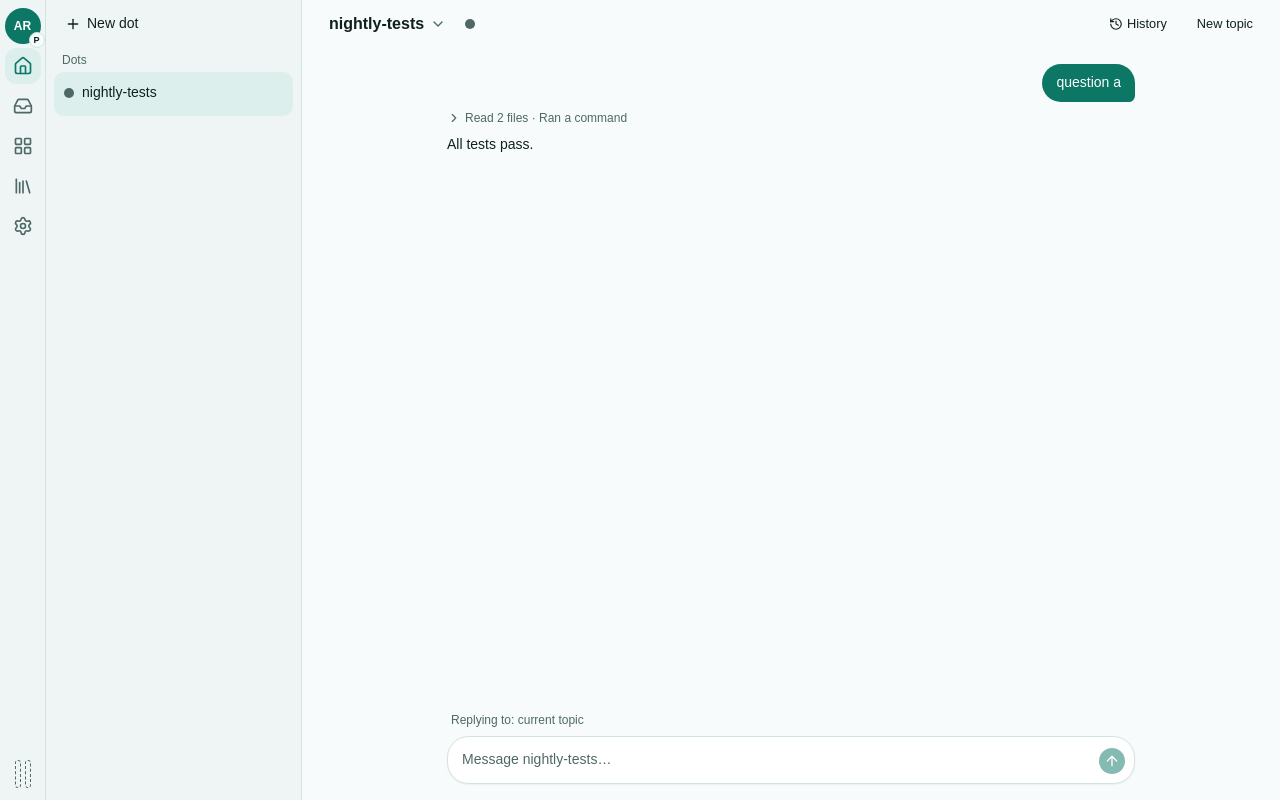
the conversation as a document (deep-teal spec section 4) › shows a group of tool steps as one line that opens to their chips
Expected: the text "Read 2 files · Ran a command" is shown, [465,110,627,126]
Click the heading "Read 2 files · Ran a command" at {"x": 537, "y": 118}, box [447,111,627,125]
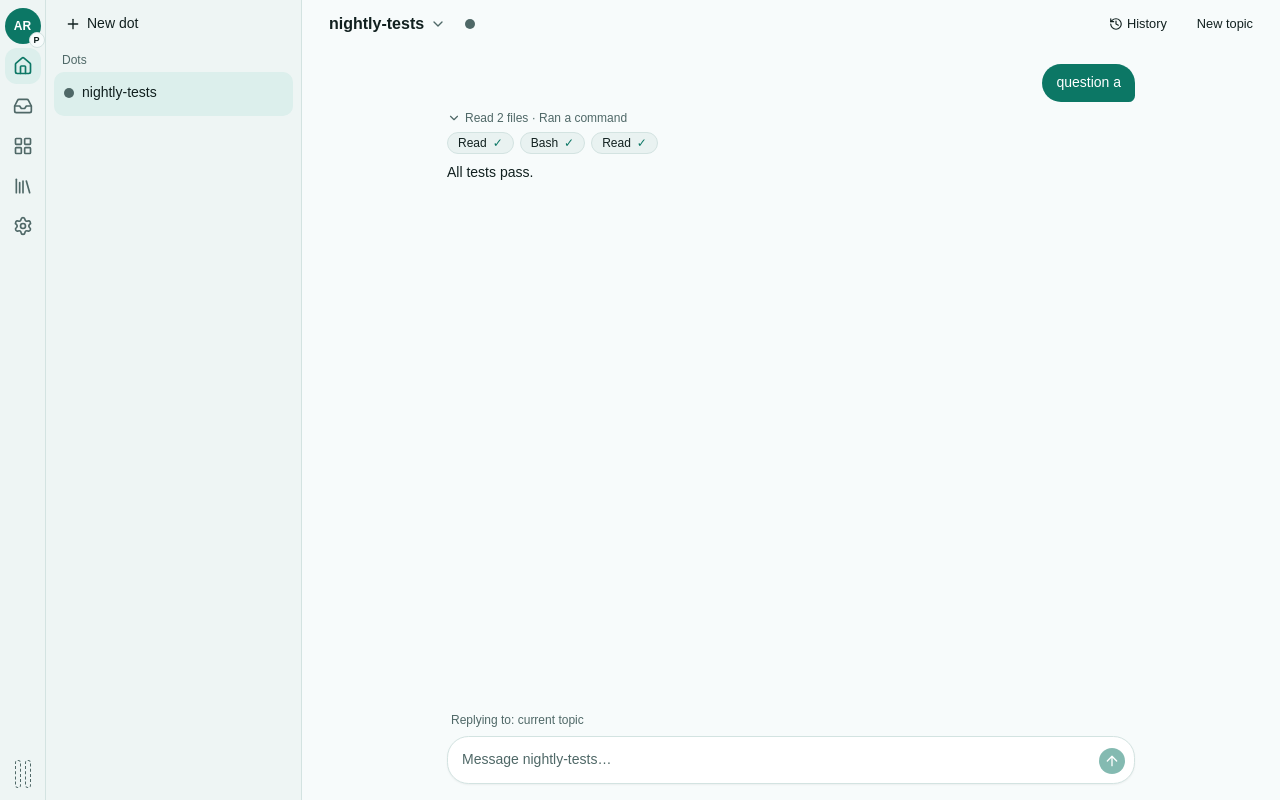
Now the element named "Tool steps" is shown, box [447,132,658,154]
Now the text "Read" is shown 2 times, box [458,135,487,151]; [602,135,631,151]
Now the text "Bash" is shown, box [531,135,558,151]
